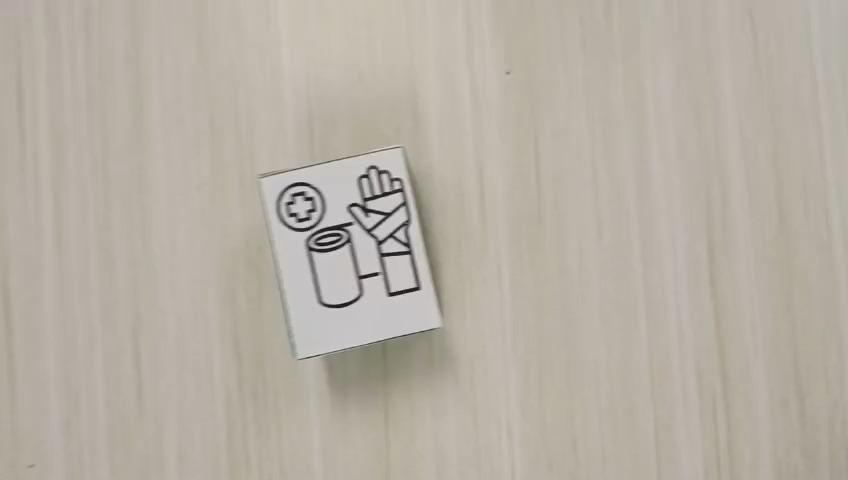Bandages: (256, 144, 444, 359)
